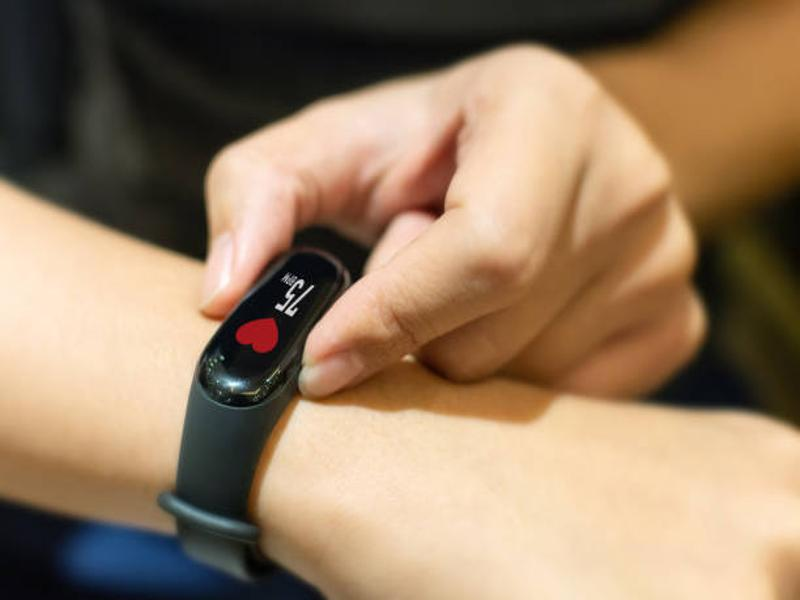watch: (158, 243, 360, 584)
